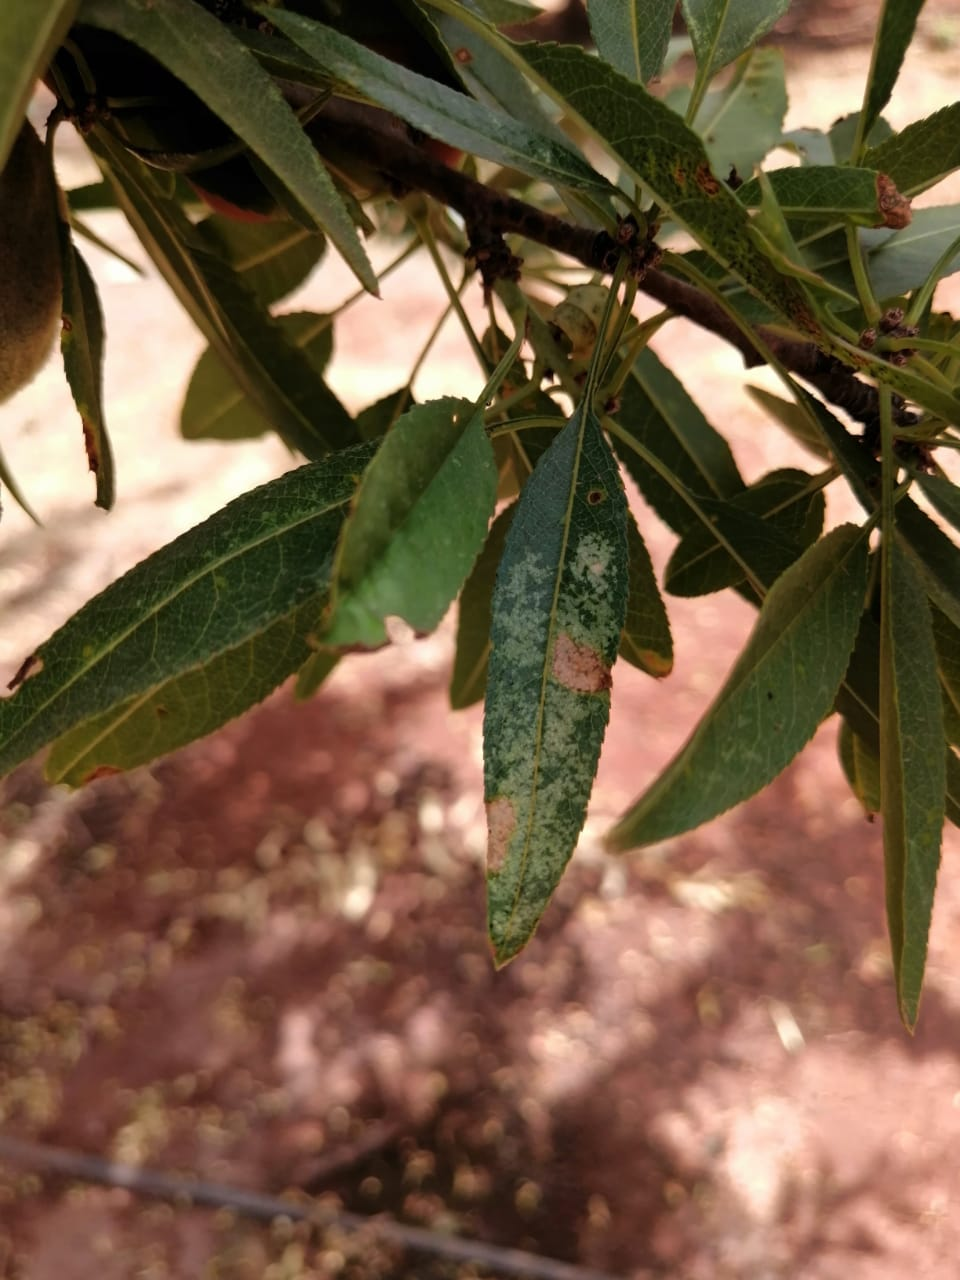faux tigre: (483, 394, 626, 972)
